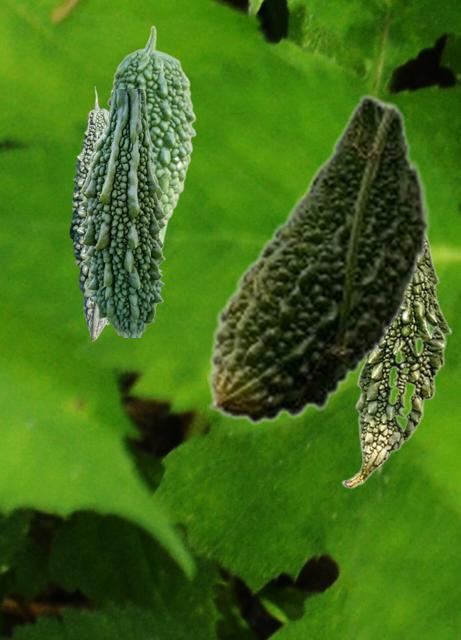ampalaya: (207, 94, 430, 424), (341, 240, 451, 487), (78, 89, 165, 336), (106, 25, 195, 265), (69, 86, 108, 340)
